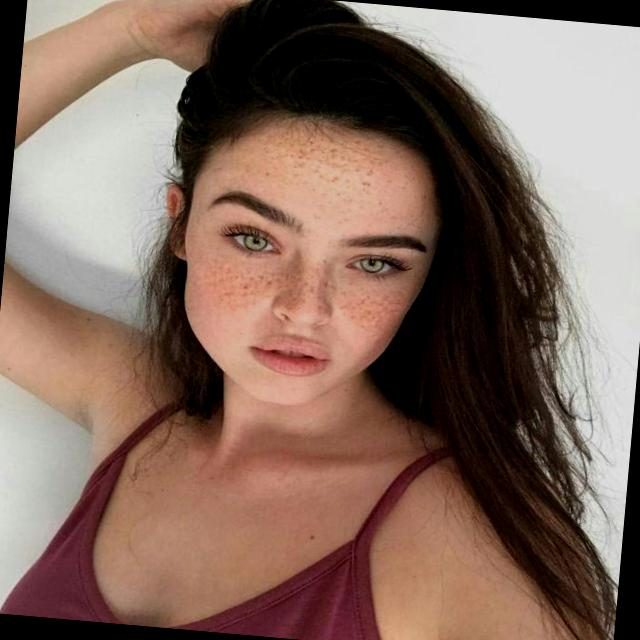freckle: (185, 240, 412, 340), (259, 120, 402, 203)
